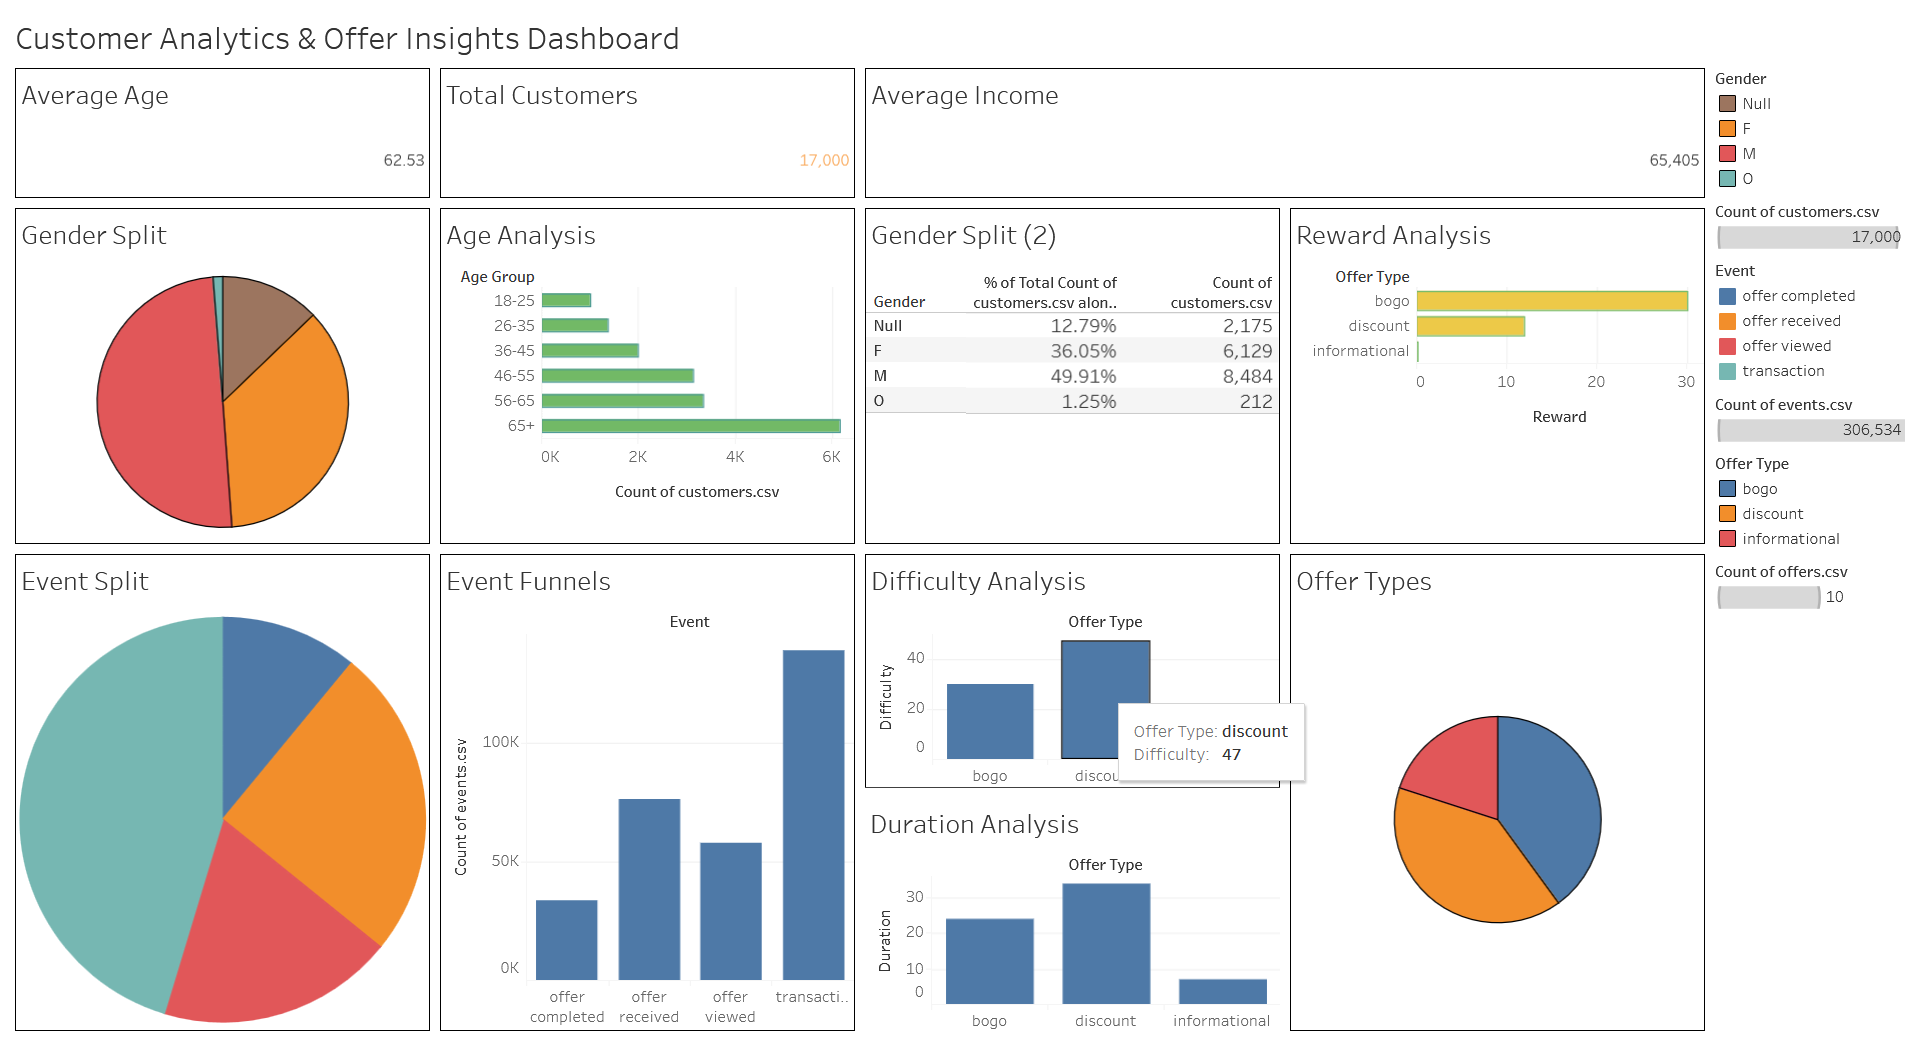

The page's visual inventory and layout, read from the dashboard file:
{"tool":"tableau","page":{"name":"Customer Analytics & Offer Insights Dashboard","canvas":[1000,1000],"units":"permille","ordinal":0},"visuals":[{"type":"title","box":[4.8,10,990.3,62.4]},{"type":"worksheet","title":"Average Age ","mark":"Text","box":[4.8,72.4,223.4,132.1]},{"type":"worksheet","title":"Total Customers","mark":"Text","box":[228.2,72.4,223.4,132.1]},{"type":"worksheet","title":"Average Income","mark":"Text","box":[451.7,72.4,446.9,132.1]},{"type":"legend","title":"Gender Split","param":"[federated.02tezxj1bpzpd417jn3tb0idtcis].[none:gender:nk]","box":[898.6,72.4,96.6,142.3]},{"type":"worksheet","title":"Gender Split","mark":"Pie","box":[4.8,204.5,223.4,326.1]},{"type":"worksheet","title":"Age Analysis","mark":"Automatic","rows":["Calculation_1785336291680256"],"cols":["customers.csv_C44F0105995F404C9941BE4CD862171B"],"box":[228.2,204.5,223.4,326.1]},{"type":"worksheet","title":"Gender Split (2)","mark":"Automatic","rows":["gender"],"box":[451.7,204.5,223.5,326.1]},{"type":"worksheet","title":"Reward Analysis","mark":"Automatic","rows":["offer_type"],"cols":["reward"],"box":[675.1,204.5,223.5,326.1]},{"type":"legend","title":"Gender Split","param":"[federated.02tezxj1bpzpd417jn3tb0idtcis].[__tableau_internal_object_id__].[cnt:c","box":[898.6,214.7,96.6,63.7]},{"type":"legend","title":"Event Split","param":"[federated.02tezxj1bpzpd417jn3tb0idtcis].[none:event:nk]","box":[898.6,278.4,96.6,142.3]},{"type":"legend","title":"Event Split","param":"[federated.02tezxj1bpzpd417jn3tb0idtcis].[__tableau_internal_object_id__].[cnt:e","box":[898.6,420.7,96.6,63.7]},{"type":"legend","title":"Offer Types","param":"[federated.02tezxj1bpzpd417jn3tb0idtcis].[none:offer_type:nk]","box":[898.6,484.4,96.6,116.1]},{"type":"worksheet","title":"Event Split","mark":"Pie","box":[4.8,530.6,223.4,459.4]},{"type":"worksheet","title":"Event Funnels","mark":"Automatic","rows":["events.csv_ED5BD0DDDC0E4C3BA5FBEC51D67E95CD"],"cols":["event"],"box":[228.2,530.6,223.4,459.4]},{"type":"worksheet","title":"Difficulty Analysis","mark":"Automatic","rows":["difficulty"],"cols":["offer_type"],"box":[451.7,530.6,223.5,229.7]},{"type":"worksheet","title":"Offer Types","mark":"Pie","box":[675.1,530.6,223.5,459.4]},{"type":"legend","title":"Offer Types","param":"[federated.02tezxj1bpzpd417jn3tb0idtcis].[__tableau_internal_object_id__].[cnt:o","box":[898.6,600.5,96.6,63.7]},{"type":"worksheet","title":"Duration Analysis","mark":"Automatic","rows":["duration"],"cols":["offer_type"],"box":[451.7,760.3,223.5,229.7]}]}

Visuals, with their boxes on the dashboard's canvas, which has no fixed pixel size, in thousandths of its width and height (x1, y1, x2, y2). These are canvas units, not pixel positions in the 1920x1040 screenshot, which may show the page scaled, cropped or inside an application window:
title: {"left": 5, "top": 10, "right": 995, "bottom": 72}
"Average Age " worksheet (Text marks): {"left": 5, "top": 72, "right": 228, "bottom": 204}
"Total Customers" worksheet (Text marks): {"left": 228, "top": 72, "right": 452, "bottom": 204}
"Average Income" worksheet (Text marks): {"left": 452, "top": 72, "right": 899, "bottom": 204}
"Gender Split" legend: {"left": 899, "top": 72, "right": 995, "bottom": 215}
"Gender Split" worksheet (Pie marks): {"left": 5, "top": 204, "right": 228, "bottom": 531}
"Age Analysis" worksheet: {"left": 228, "top": 204, "right": 452, "bottom": 531}
"Gender Split (2)" worksheet: {"left": 452, "top": 204, "right": 675, "bottom": 531}
"Reward Analysis" worksheet: {"left": 675, "top": 204, "right": 899, "bottom": 531}
"Gender Split" legend: {"left": 899, "top": 215, "right": 995, "bottom": 278}
"Event Split" legend: {"left": 899, "top": 278, "right": 995, "bottom": 421}
"Event Split" legend: {"left": 899, "top": 421, "right": 995, "bottom": 484}
"Offer Types" legend: {"left": 899, "top": 484, "right": 995, "bottom": 600}
"Event Split" worksheet (Pie marks): {"left": 5, "top": 531, "right": 228, "bottom": 990}
"Event Funnels" worksheet: {"left": 228, "top": 531, "right": 452, "bottom": 990}
"Difficulty Analysis" worksheet: {"left": 452, "top": 531, "right": 675, "bottom": 760}
"Offer Types" worksheet (Pie marks): {"left": 675, "top": 531, "right": 899, "bottom": 990}
"Offer Types" legend: {"left": 899, "top": 600, "right": 995, "bottom": 664}
"Duration Analysis" worksheet: {"left": 452, "top": 760, "right": 675, "bottom": 990}
